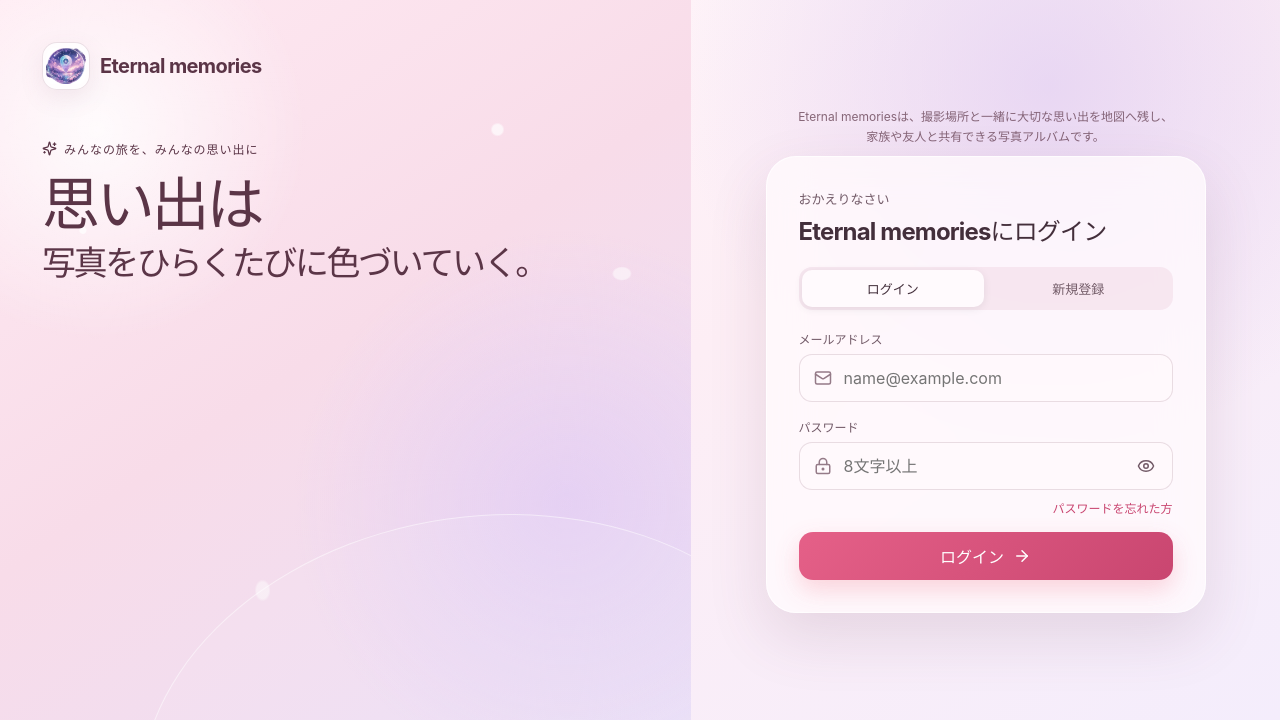
it: 認証画面 › メール未確認エラーを日本語で表示する
Step 1. Type "hana@example.com" into the field labelled "メールアドレス" → (1000, 378), box [842,367,1158,389]
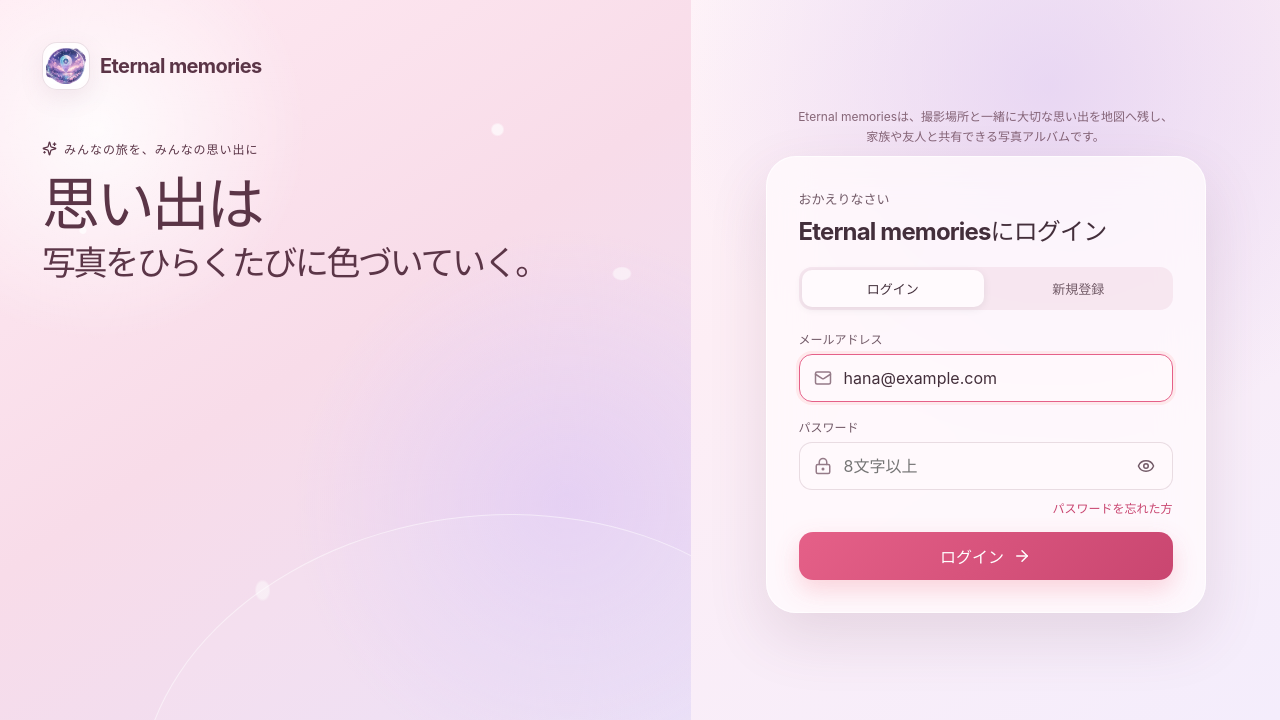
Step 2. Type "password1" into the password field labelled "パスワード" → (978, 466), box [842,455,1114,477]
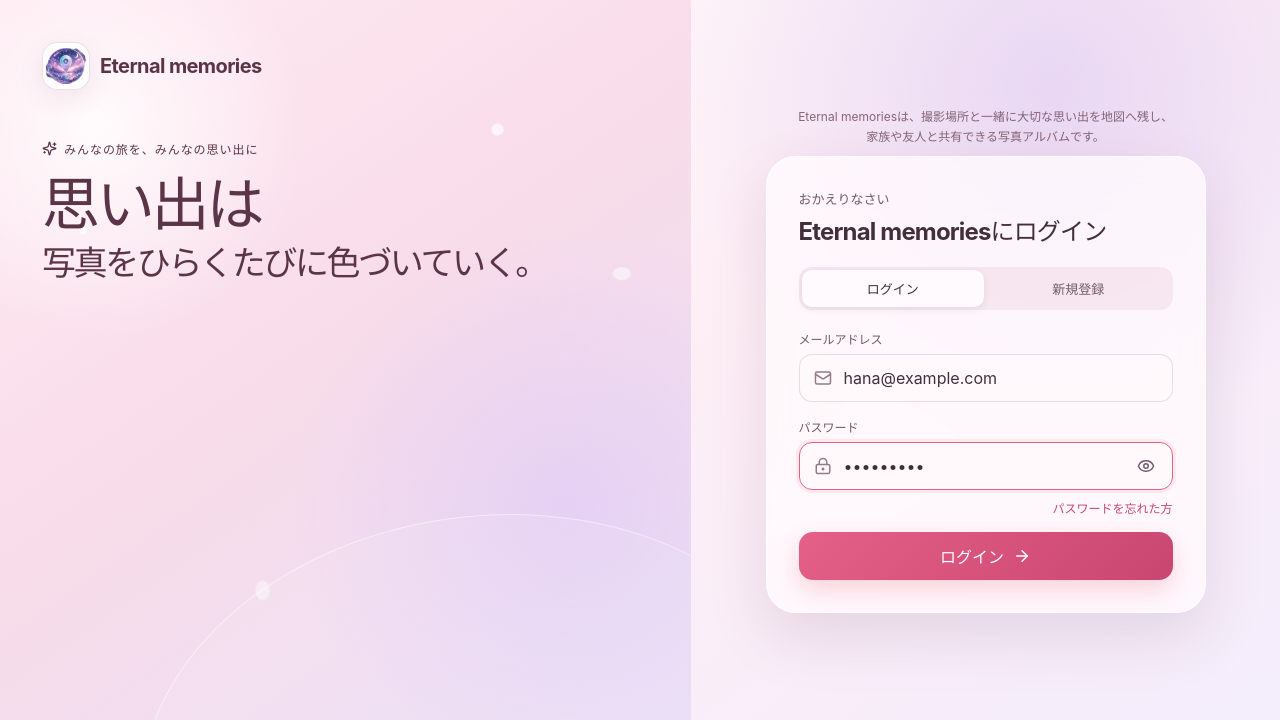
Step 3. Click the button "ログイン" below "メールアドレス" → click(986, 556), box [799,532,1173,580]
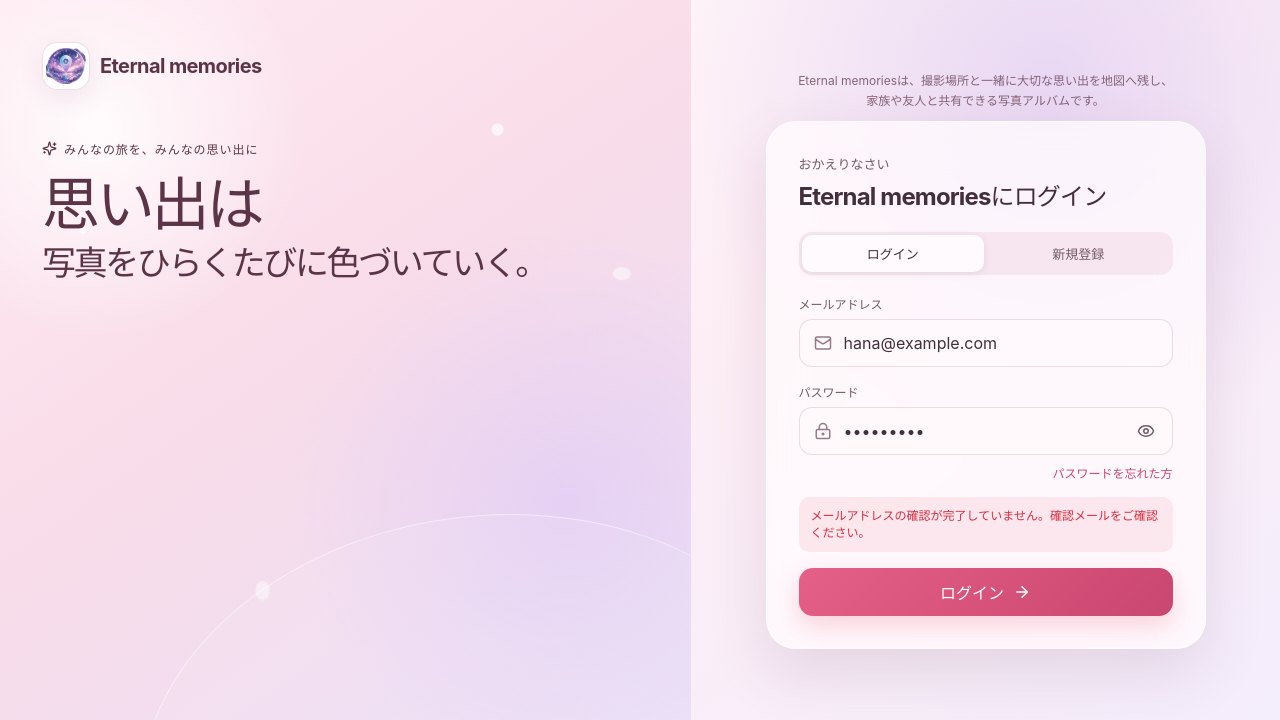
Now the message reads "メールアドレスの確認が完了していません。確認メールをご確認ください。", box [811,508,1158,540]
